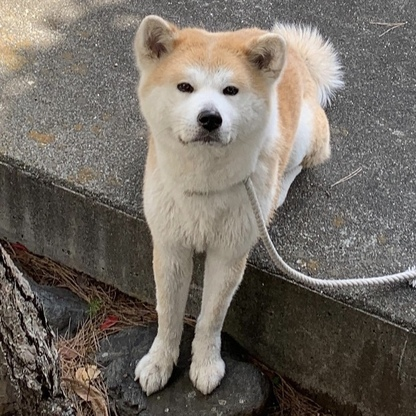akita: (120, 4, 350, 403)
